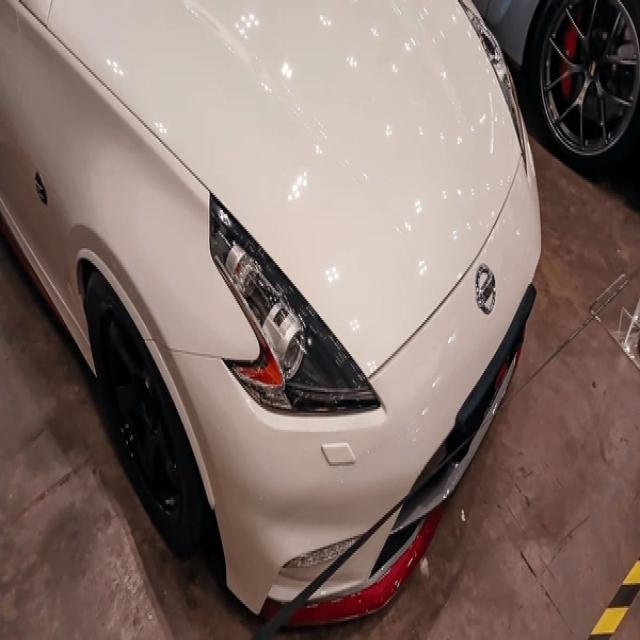nissan: (472, 261, 500, 322)
